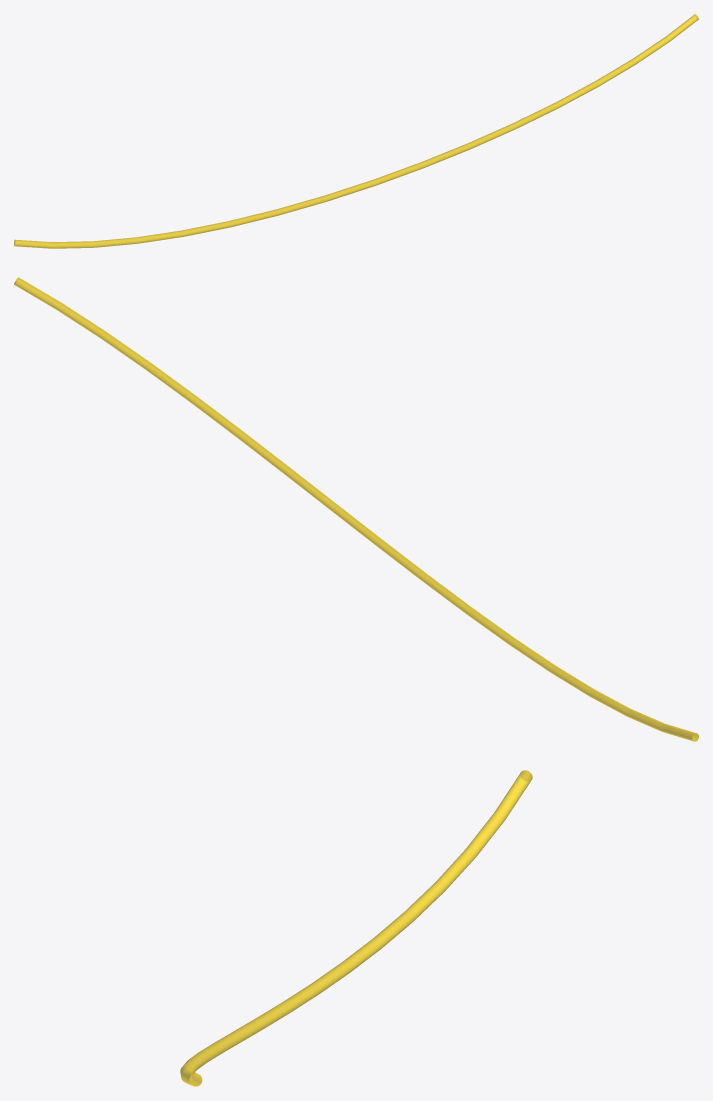
The model's file is Event_17758602_track_155.fbx.
3 views of the same model, one above another, from view 1: azimuth 30°, elevation 25°; view 2: azimuth 150°, elevation 25°; view 3: azimuth 270°, elevation 25° (orthographic). The views are drawn at different scales.
Parts seen in each view (by area): view 1: Model; view 2: Model; view 3: Model.
Part boxes in pixels (x1,y1,x2,y2): Model: [14, 14, 698, 248]; Model: [14, 277, 698, 741]; Model: [180, 770, 532, 1086].
Size of the model in its own units: 4.16 by 1.01 by 1.06.
